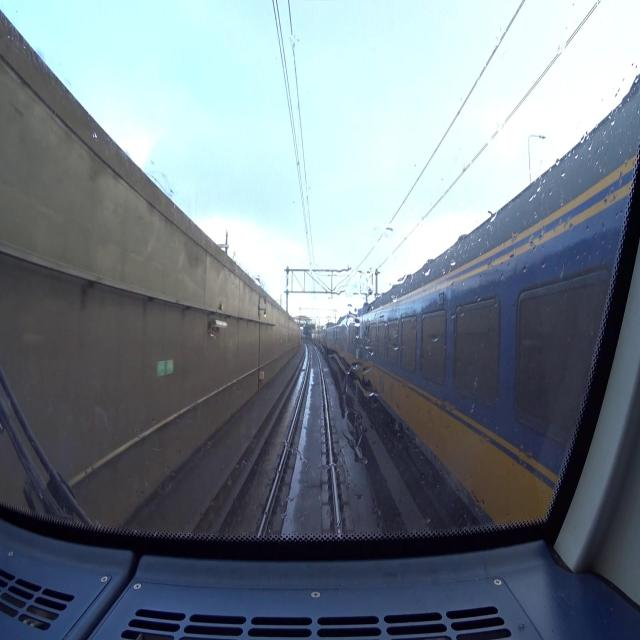rail-track: (260, 346, 337, 539)
